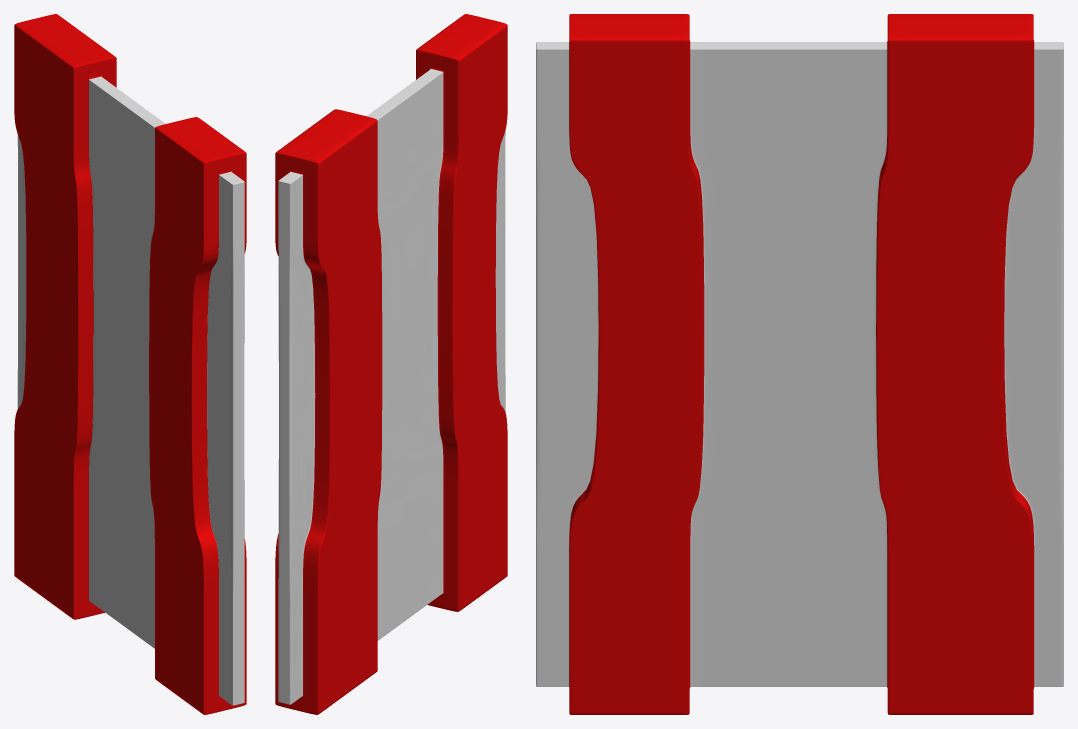
File: Wall05_LP_FBX.fbx
The picture shows the model from 3 angles, left to right: view 1: azimuth 30°, elevation 25°; view 2: azimuth 150°, elevation 25°; view 3: azimuth 270°, elevation 25°; orthographic projection. The views are drawn at different scales.
Parts seen in each view (by area): view 1: pCube22; view 2: pCube22; view 3: pCube22.
Part boxes in pixels (x1,y1,x2,y2): pCube22: (14, 14, 246, 714); pCube22: (275, 14, 507, 714); pCube22: (536, 14, 1063, 714).
Size of the model in its own units: 35 by 425 by 300.
